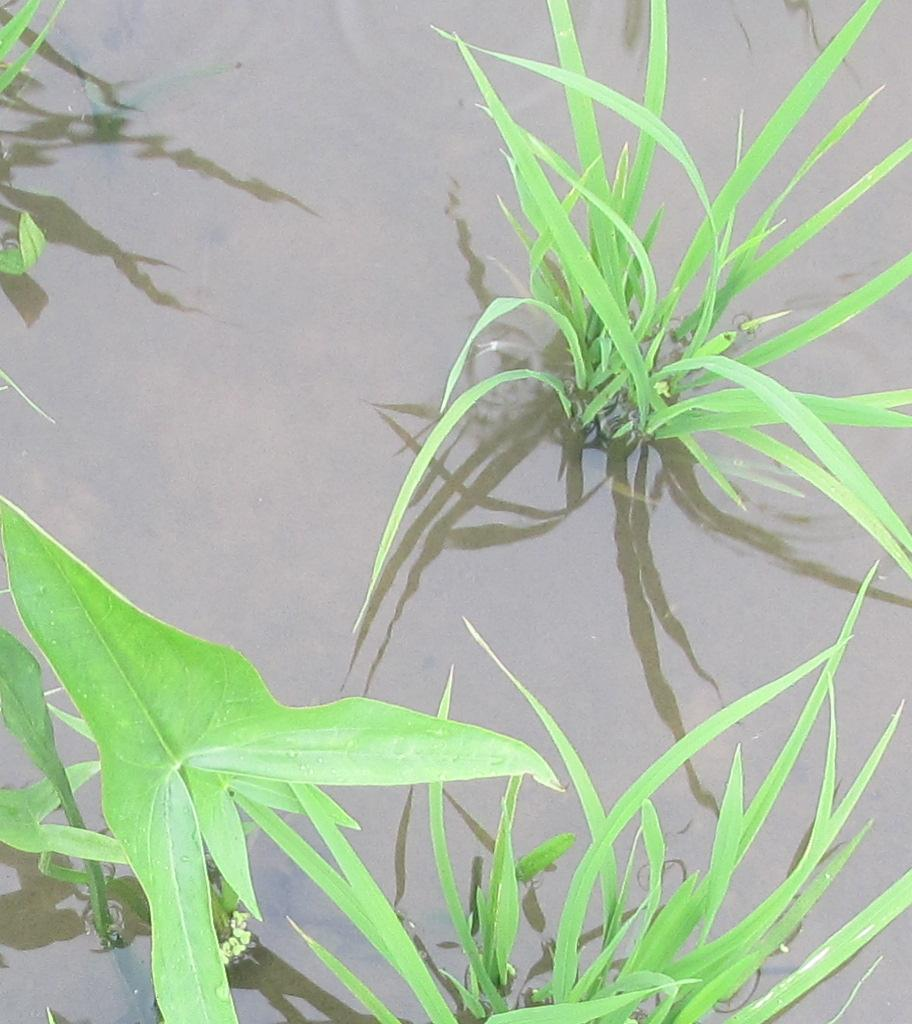Weed: (14, 519, 291, 1007), (36, 605, 563, 846)
